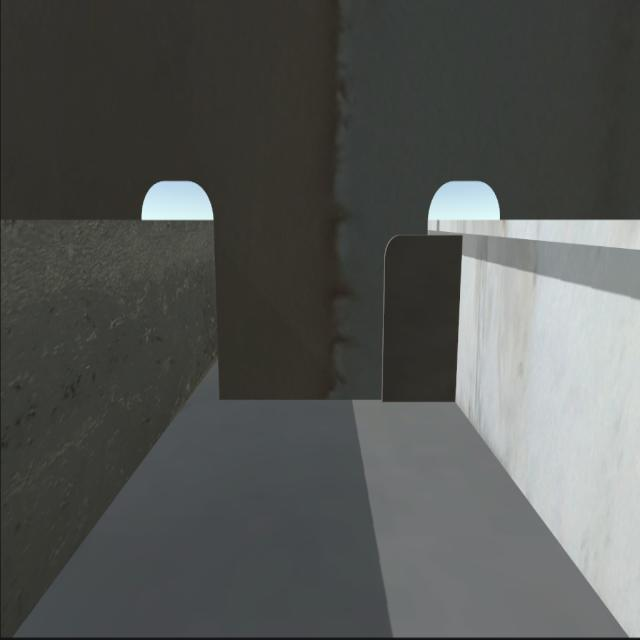fillet_yong_jeop_jang: (213, 388, 458, 405)
longi_yong_jeop_jang: (448, 233, 467, 412)
plate_CP05: (378, 225, 464, 399)
